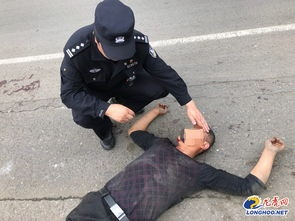falling: (39, 97, 290, 220)
